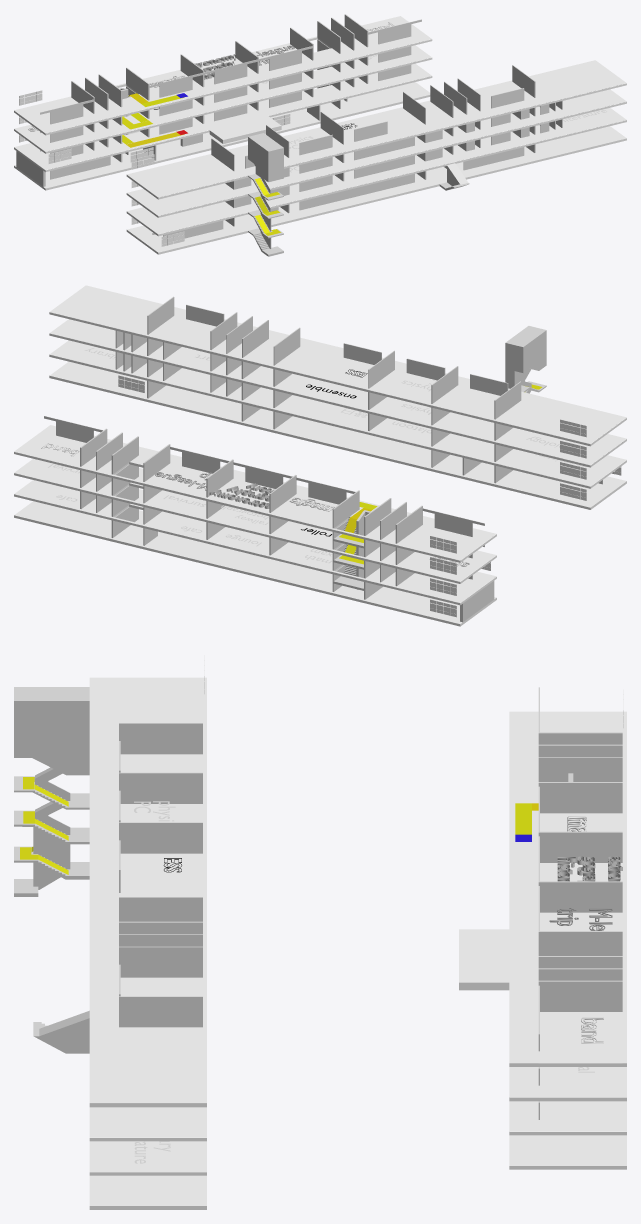
Rendered from frommathtomagic.glb.
3 views of the same model, one above another, from view 1: azimuth 30°, elevation 25°; view 2: azimuth 150°, elevation 25°; view 3: azimuth 270°, elevation 25° (orthographic). The views are drawn at different scales.
Parts seen in each view (by area): view 1: floor S 4F, floor 4F, floor S 3F, floor S 2F, floor S 1F, floor 3F, floor 2F, floor 1F, Str S 4F, wall HomeRoom~HomeRoom.002, ceiling Gate.001, wall 1C~1C (+33 smaller); view 2: floor S 4F, floor S 1F, floor S 2F, floor S 3F, floor 4F, floor 1F, floor 2F, floor 3F, Str S 4F, 天文 地歴, wall Civics~Civics, wall 1D~1D (+26 smaller); view 3: floor S 4F, floor 4F, Str S 4F, floor 1F, floor S 3F, floor S 1F, floor 2F, floor 3F, floor S 2F, ceiling Gate.001, wall 1A~Out.001, wall 1D~1C.001 (+21 smaller).
Part boxes in pixels (box(x1,y1,x2,y2)): floor S 4F: box(126, 60, 626, 199); floor 4F: box(14, 16, 432, 135); floor S 3F: box(126, 89, 626, 217); floor S 2F: box(126, 108, 626, 236); floor S 1F: box(126, 126, 626, 254); floor 3F: box(14, 45, 432, 153); floor 2F: box(14, 63, 432, 172); floor 1F: box(14, 82, 430, 190); Str S 4F: box(248, 133, 283, 200); wall HomeRoom~HomeRoom.002: box(299, 174, 414, 210); ceiling Gate.001: box(209, 116, 281, 143); wall 1C~1C: box(204, 59, 257, 84); floor S 4F: box(49, 285, 626, 446); floor S 1F: box(49, 361, 626, 509); floor S 2F: box(49, 340, 626, 488); floor S 3F: box(49, 319, 626, 467); floor 4F: box(14, 425, 496, 562); floor 1F: box(14, 501, 496, 626); floor 2F: box(14, 480, 496, 605); floor 3F: box(14, 459, 496, 583); Str S 4F: box(505, 326, 546, 392); 天文 地歴: box(209, 483, 274, 508); wall Civics~Civics: box(422, 508, 484, 536); wall 1D~1D: box(296, 477, 355, 504); floor S 4F: box(89, 677, 206, 1107); floor 4F: box(509, 711, 626, 1066); Str S 4F: box(14, 687, 89, 792); floor 1F: box(509, 1135, 626, 1169); floor S 3F: box(89, 1107, 206, 1141); floor S 1F: box(89, 1175, 206, 1209); floor 2F: box(509, 1101, 626, 1135); floor 3F: box(509, 1067, 626, 1101); floor S 2F: box(89, 1141, 206, 1175); ceiling Gate.001: box(459, 929, 509, 990); wall 1A~Out.001: box(119, 996, 202, 1027); wall 1D~1C.001: box(119, 822, 202, 853).
Bounding box in the file's own units: 90 × 21 × 54.75.
